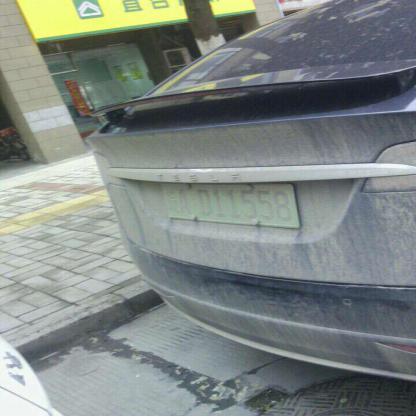lp: (160, 183, 299, 228)
